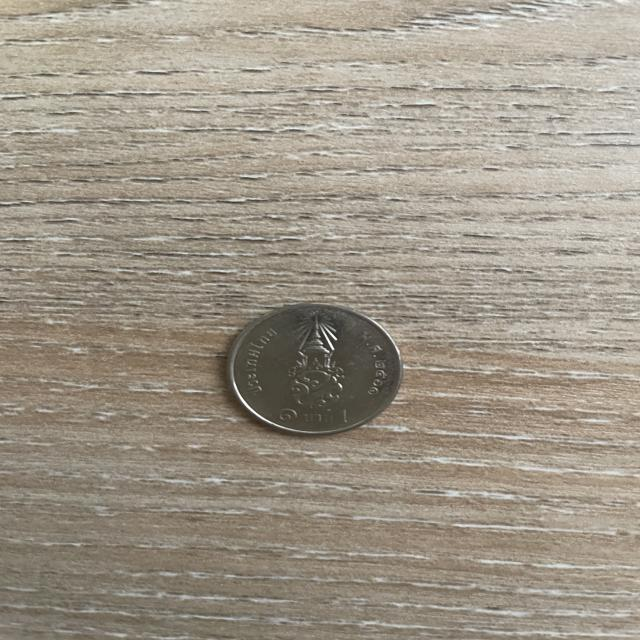1 Bath: (222, 300, 412, 442)
